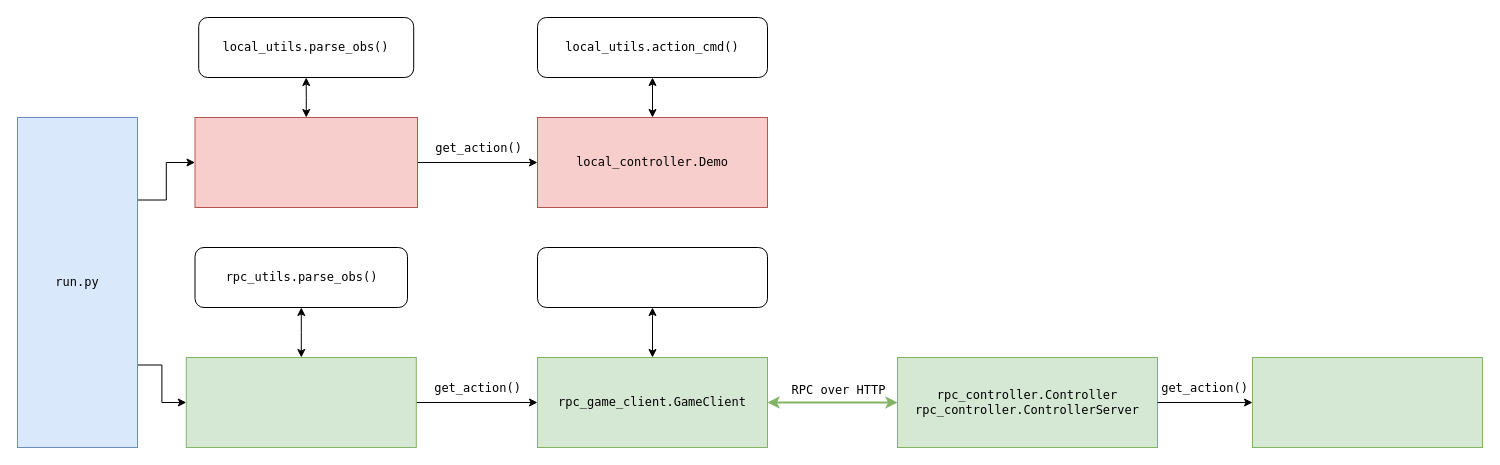
The diagram is 1500 pixels wide and 465 high, and some of its shapes have lost their labels. Each missing label, with the centre of its shape:
env.agent.LocalAgent: the point at 306,162
env.agent.RemoteAgent: the point at 300,402
rpc_controller.RemotePolicy: the point at 1367,402
rpc_utils.action_cmd(): the point at 652,277
